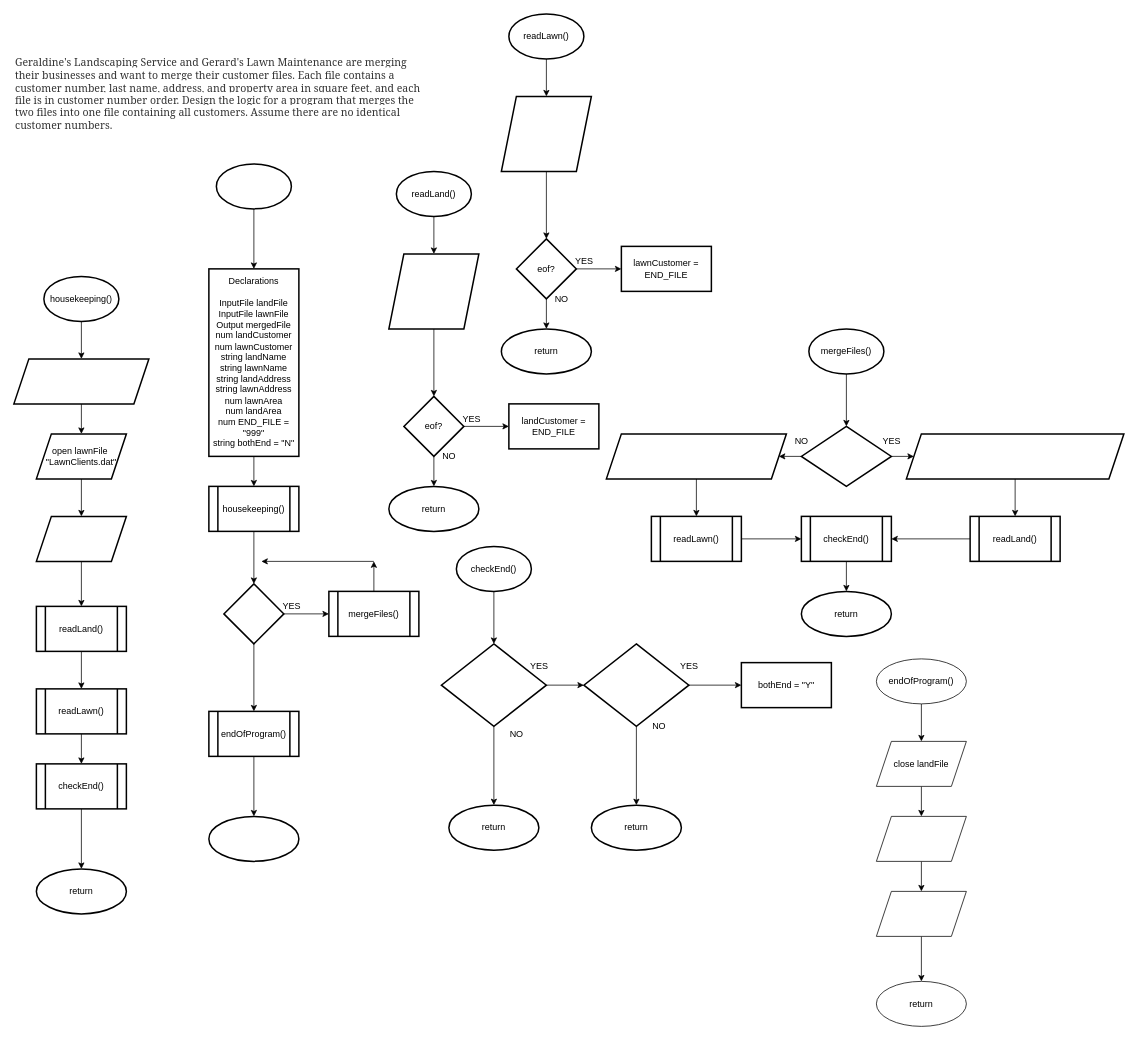
This 1137x1040 diagram has some shape labels left out. The box of each missing label's shape, as (x1, y1, x2, y2) in pixels:
bothEnd <>"Y": (223, 583, 284, 644)
close lawnFile: (876, 816, 966, 861)
close mergedFile: (876, 891, 966, 936)
input landCustomer, landName, landAddress, landArea from landFile: (388, 253, 479, 329)
input lawnCustomer, lawnName, lawnAddress, lawnArea from lawnFile: (500, 95, 592, 172)
landCustomer < lawnCustomer: (800, 425, 892, 487)
landCustomer == END_FILE: (440, 643, 547, 727)
lawnCustomer == END_FILE: (583, 643, 689, 727)
open landFile "LandscapingClients.dat": (13, 358, 149, 404)
open mergedFile "Clients.dat": (35, 515, 127, 562)
output landCustomer,landName, landAddress, landArea to mergedFile: (905, 433, 1124, 479)
output lawnCustomer,lawnName, lawnAddress, lawnArea to mergedFile: (605, 433, 787, 479)
start: (215, 163, 292, 209)
stop: (208, 815, 299, 862)
